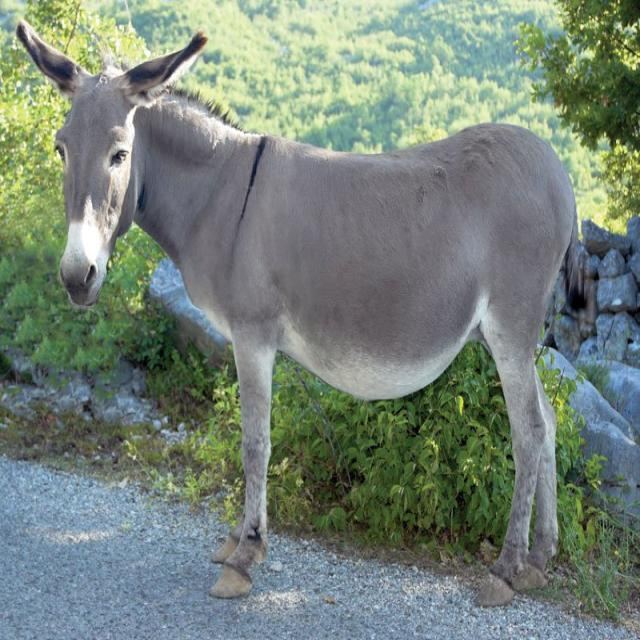Donkey: (13, 9, 588, 606)
